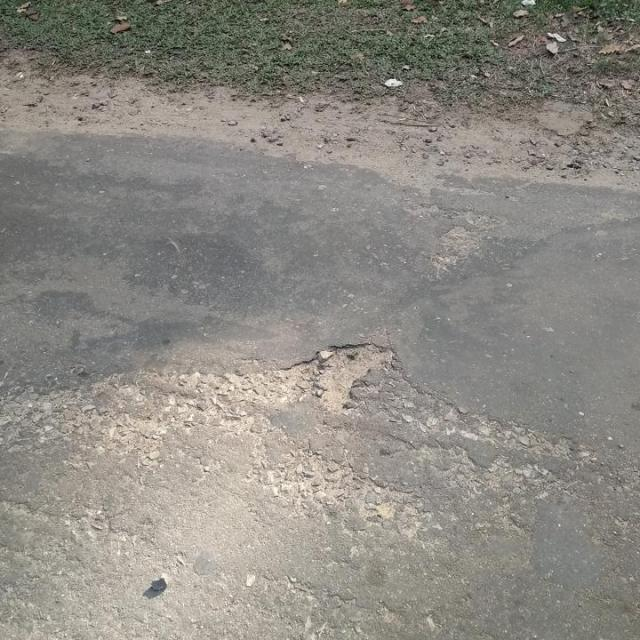pothole: (308, 340, 400, 418)
